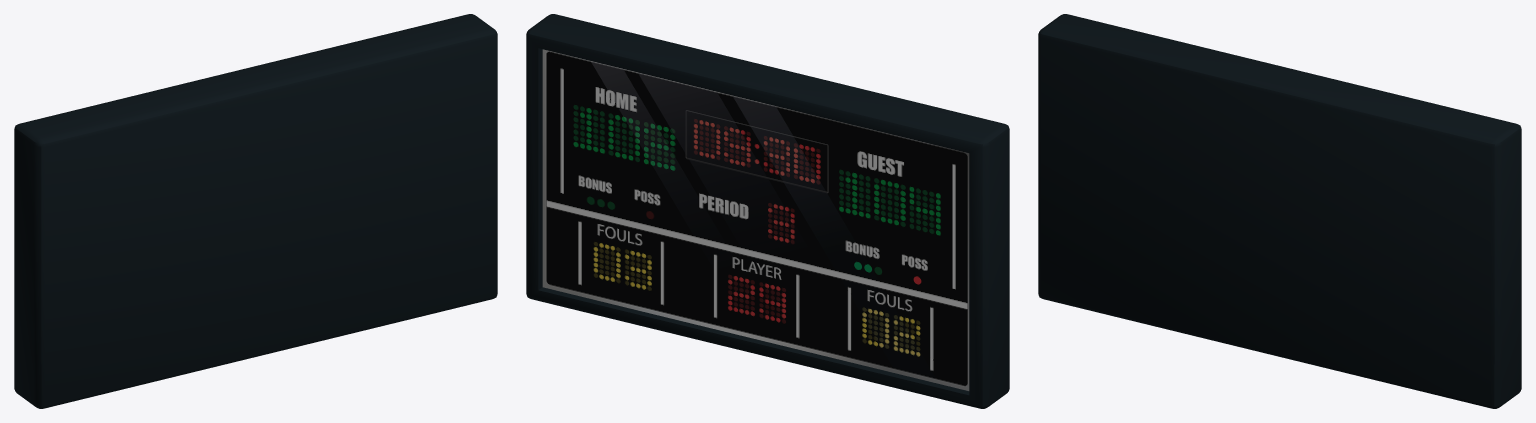
The model's file is SM_Scoreboard.fbx.
The picture shows the model from 3 angles, left to right: view 1: azimuth 30°, elevation 25°; view 2: azimuth 150°, elevation 25°; view 3: azimuth 330°, elevation 25°; orthographic projection.
Visible parts, largest first — view 1: SM_Scoreboard; view 2: SM_Scoreboard; view 3: SM_Scoreboard.
Boxes of the visible parts, bbox=[...] form: SM_Scoreboard: bbox=[14, 14, 497, 408]; SM_Scoreboard: bbox=[526, 14, 1009, 408]; SM_Scoreboard: bbox=[1038, 14, 1521, 408].
Size of the model in its own units: 1812 by 1011 by 192.
